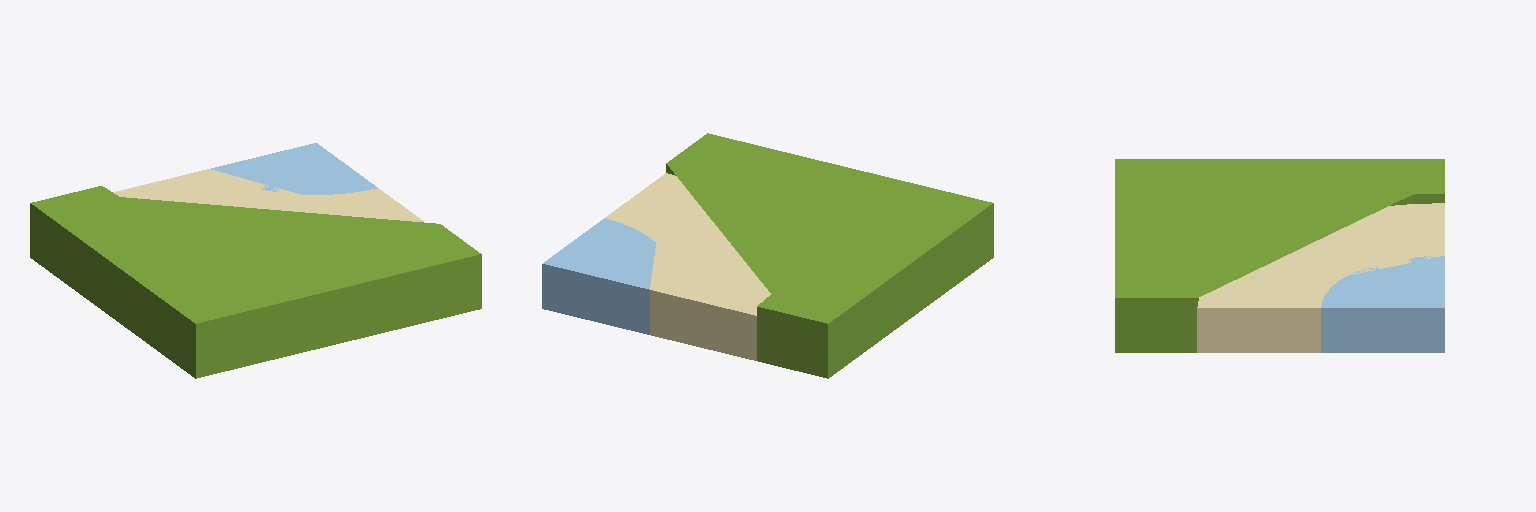
Rendered from roadTile_157.obj.
The picture shows the model from 3 angles: view 1: azimuth 30°, elevation 25°; view 2: azimuth 150°, elevation 25°; view 3: azimuth 270°, elevation 25°; orthographic projection.
Visible parts, largest first — view 1: Mesh1 Group1 Model; view 2: Mesh1 Group1 Model; view 3: Mesh1 Group1 Model.
Boxes of the visible parts, x1=… form: Mesh1 Group1 Model: x1=30, y1=143, x2=481, y2=378; Mesh1 Group1 Model: x1=542, y1=133, x2=993, y2=378; Mesh1 Group1 Model: x1=1115, y1=159, x2=1444, y2=352.
Size of the model in its own units: 3 by 0.55 by 3.